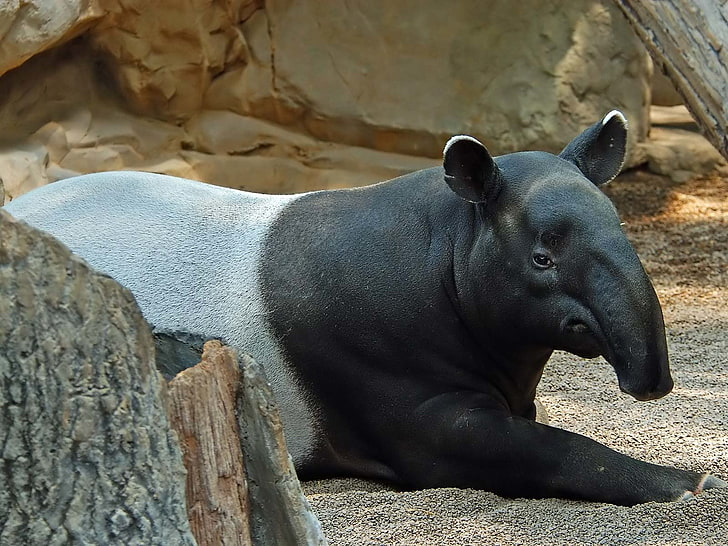Anta: (15, 113, 719, 508)
